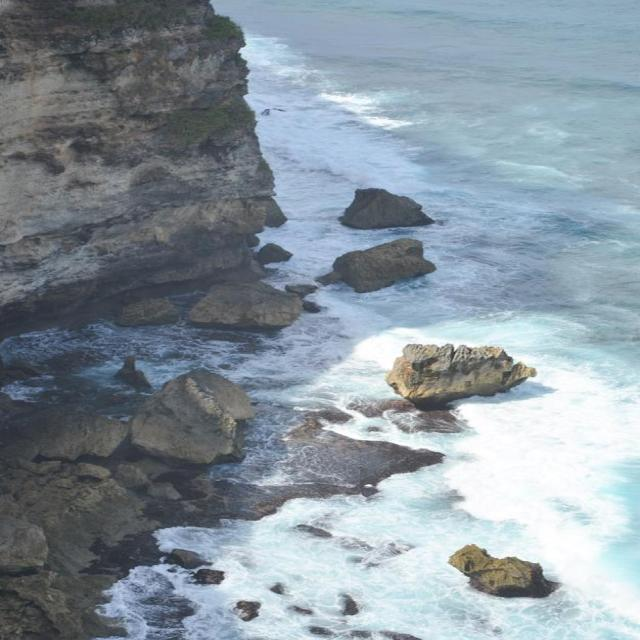reef: (49, 349, 386, 554), (274, 152, 506, 420)
